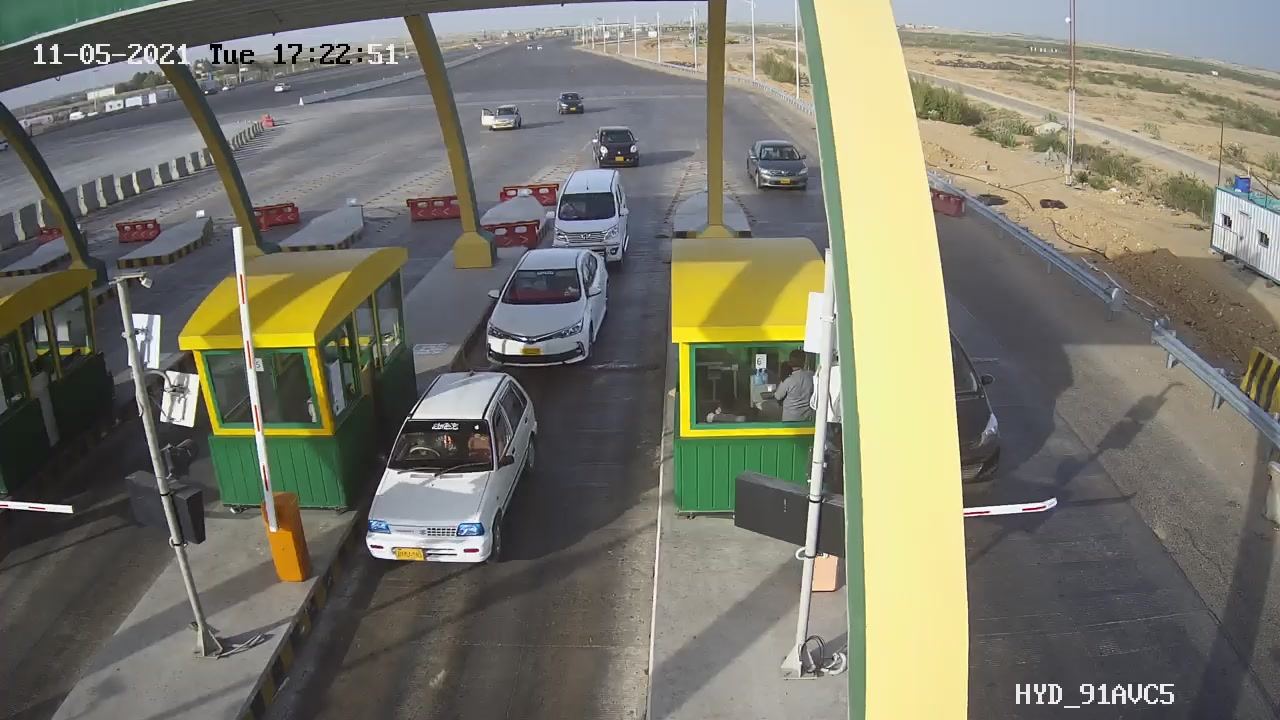F1: (351, 359, 557, 582), (473, 233, 626, 383)
